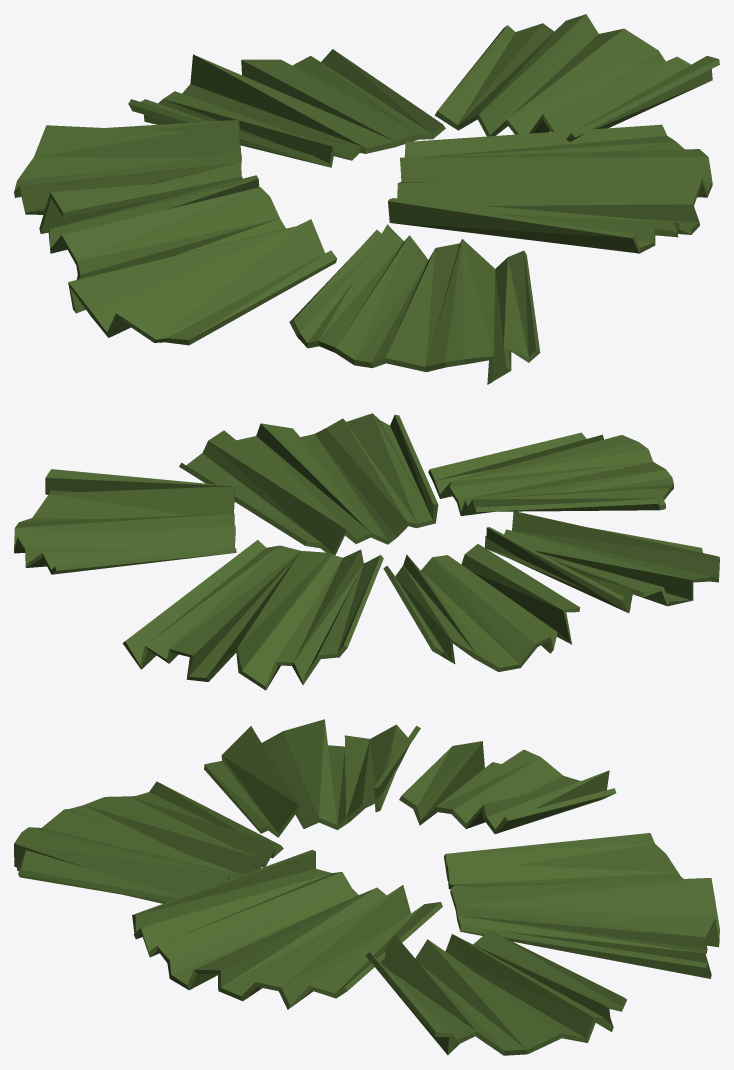
Rendered from cc0-lettuce-lod0.glb.
3 views of the same model, one above another, from view 1: azimuth 30°, elevation 25°; view 2: azimuth 150°, elevation 25°; view 3: azimuth 270°, elevation 25° (orthographic). The views are drawn at different scales.
Parts seen in each view (by area): view 1: part_0; view 2: part_0; view 3: part_0.
Boxes of the visible parts, left/top/right/bottom form: part_0: left=14, top=14, right=719, bottom=384; part_0: left=14, top=413, right=719, bottom=690; part_0: left=14, top=719, right=719, bottom=1055.
Bounding box in the file's own units: 1.79 × 0.2306 × 1.68.
